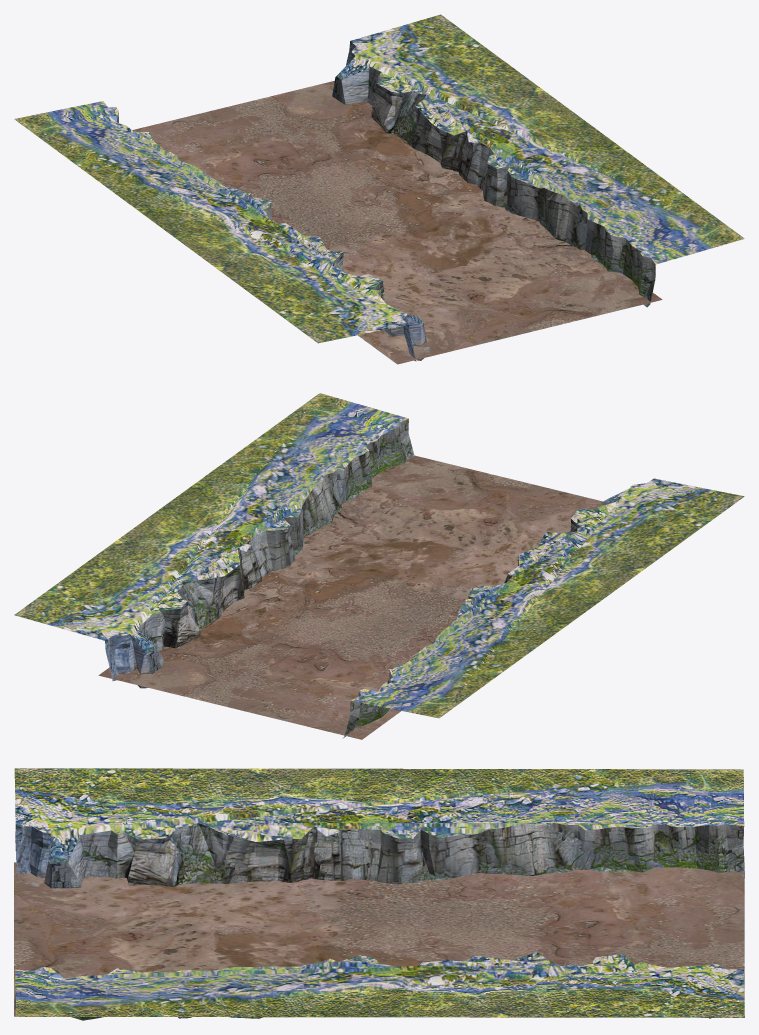
The model's file is Cliff.fbx.
3 views of the same model, one above another, from view 1: azimuth 30°, elevation 25°; view 2: azimuth 150°, elevation 25°; view 3: azimuth 270°, elevation 25° (orthographic). The views are drawn at different scales.
Visible parts, largest first — view 1: Plane.004; view 2: Plane.004; view 3: Plane.004.
Part boxes in pixels (left/top/right/bottom): Plane.004: left=14, top=14, right=744, bottom=364; Plane.004: left=14, top=393, right=744, bottom=739; Plane.004: left=14, top=768, right=744, bottom=1020.
Bounding box in the file's own units: 647 × 78.94 × 801.
2 materials, 2 textured.
